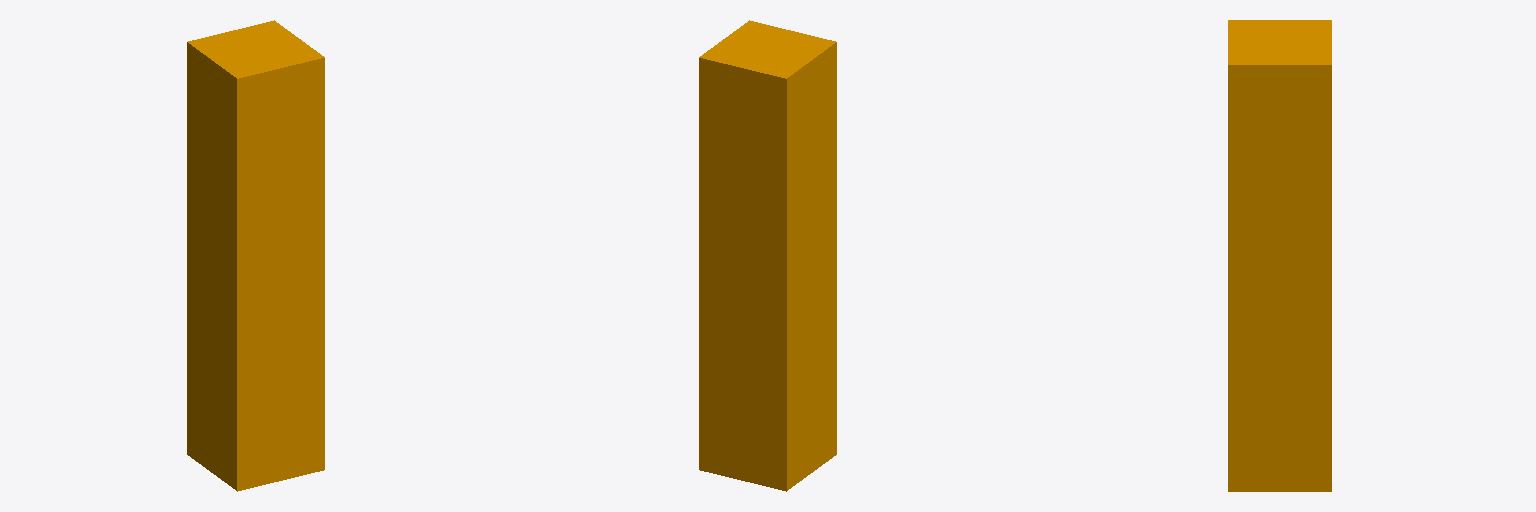
The robot description file, URDF, robot "box":
<?xml version='1.0' encoding='UTF-8'?>
<robot name="box">
  <link name="base_link">
    <inertial>
      <origin xyz="0.0 0.0 0.0" rpy="0.0 -0.0 0.0"/>
      <mass value="1.0"/>
      <inertia ixx="1.0" ixy="0.0" ixz="0.0" iyy="1.0" iyz="0.0" izz="1.0"/>
    </inertial>
    <visual name="base_link_visual">
      <geometry>
        <box size="0.4 0.4 1.8"/>
      </geometry>
      <origin xyz="0 0 0.9" rpy="0 0 0"/>
    </visual>
    <collision name="base_link_collision">
      <geometry>
        <box size="0.4 0.4 1.8"/>
      </geometry>
      <origin xyz="0 0 0.9" rpy="0 0 0"/>
    </collision>
  </link>
</robot>

--- Facts derived from the render (not from the file) ---
The picture shows the robot from 3 angles, left to right: view 1: azimuth 30°, elevation 25°; view 2: azimuth 150°, elevation 25°; view 3: azimuth 270°, elevation 25°; orthographic projection.
Robot: box — 1 links, 0 joints (none); root link base_link; default pose: every joint at zero.
Visible links, largest first — view 1: base_link; view 2: base_link; view 3: base_link.
Boxes of the visible links, x1,y1,x2,y2 form: base_link: [187, 20, 324, 491]; base_link: [699, 20, 836, 491]; base_link: [1228, 20, 1331, 491].
Bounding box of the posed robot: 0.4 × 0.4 × 1.8 m (x, y, z).
Geometry: primitives only (box / cylinder / sphere), no mesh files.